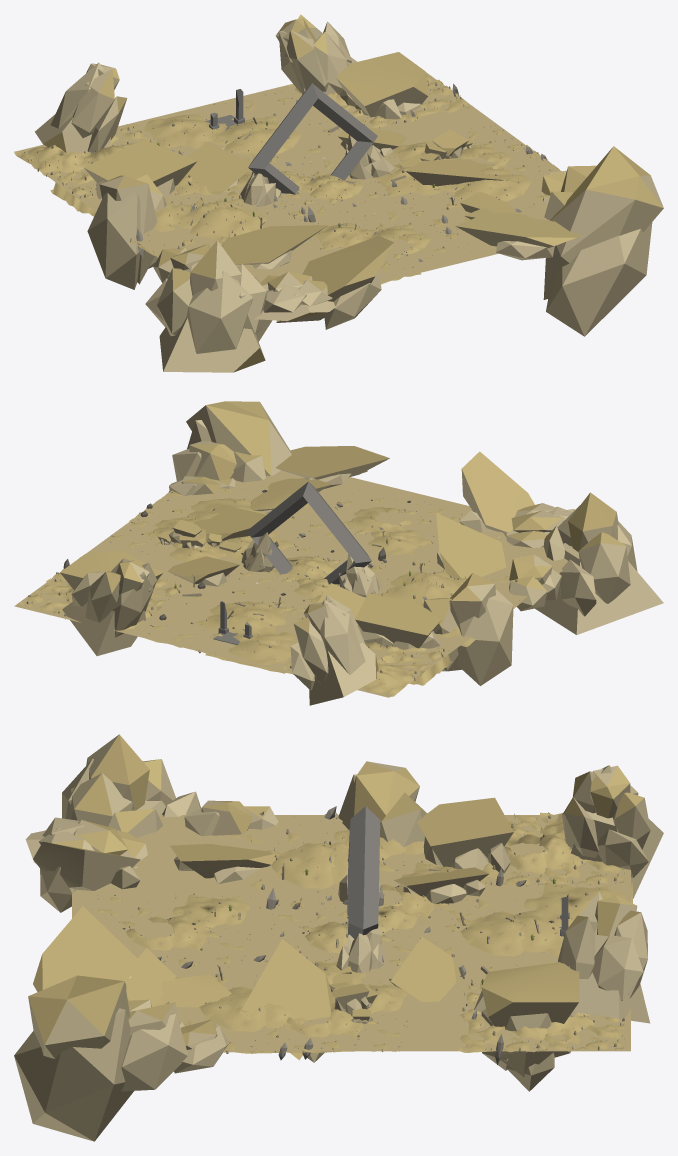
The model's file is space.glb.
The picture shows the model from 3 angles, top to bottom: view 1: azimuth 30°, elevation 25°; view 2: azimuth 150°, elevation 25°; view 3: azimuth 270°, elevation 25°; orthographic projection. The views are drawn at different scales.
Visible parts, largest first — view 1: cliffsmountains, desertsand, Landscape8, Knite, Landscape6, Landscape7, Landscape2, Landscape5, Landscape, Landscape1, Landscape4, Landscape3 (+1 smaller); view 2: cliffsmountains, desertsand, Landscape8, Knite, Landscape2, Landscape5, Landscape6, Landscape, Landscape7, Landscape1, Landscape4, archpillar1; view 3: cliffsmountains, desertsand, Landscape8, Landscape6, Landscape2, Landscape1, Landscape5, Knite, Landscape7, Landscape4, Landscape, Landscape3.
Part boxes in pixels (x1,y1,x2,y2): cliffsmountains: (35,14,663,372); desertsand: (14,72,560,282); Landscape8: (138,91,338,165); Knite: (248,83,377,194); Landscape6: (87,186,318,258); Landscape7: (370,138,559,234); Landscape2: (14,124,182,213); Landscape5: (310,207,472,284); Landscape: (274,160,403,221); Landscape1: (288,74,473,127); Landscape4: (389,126,561,194); Landscape3: (174,156,316,213); cliffsmountains: (60,401,663,705); desertsand: (14,470,567,697); Landscape8: (146,582,316,673); Knite: (247,481,371,584); Landscape2: (282,640,452,696); Landscape5: (308,490,462,555); Landscape6: (340,547,526,646); Landscape: (239,540,386,598); Landscape7: (130,488,342,561); Landscape1: (19,557,181,632); Landscape4: (110,496,226,561); archpillar1: (213,601,252,644); cliffsmountains: (14,734,663,1141); desertsand: (72,815,630,1051); Landscape8: (411,880,632,976); Landscape6: (221,806,437,909); Landscape2: (480,812,624,886); Landscape1: (459,979,627,1064); Landscape5: (95,893,251,964); Knite: (347,806,380,938); Landscape7: (157,955,365,1059); Landscape4: (243,980,408,1060); Landscape: (271,899,420,965); Landscape3: (317,861,478,932).
Bounding box in the file's own units: 1868 × 685 × 1722.
